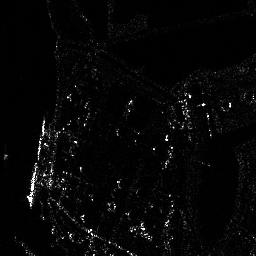ship: (36, 117, 47, 159), (28, 163, 38, 207)
